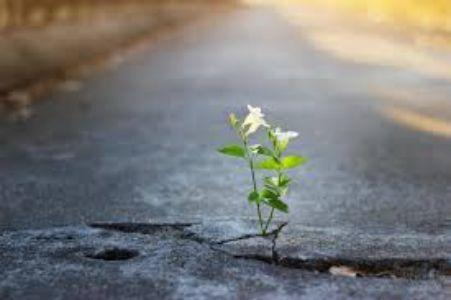crack: (95, 220, 447, 281)
